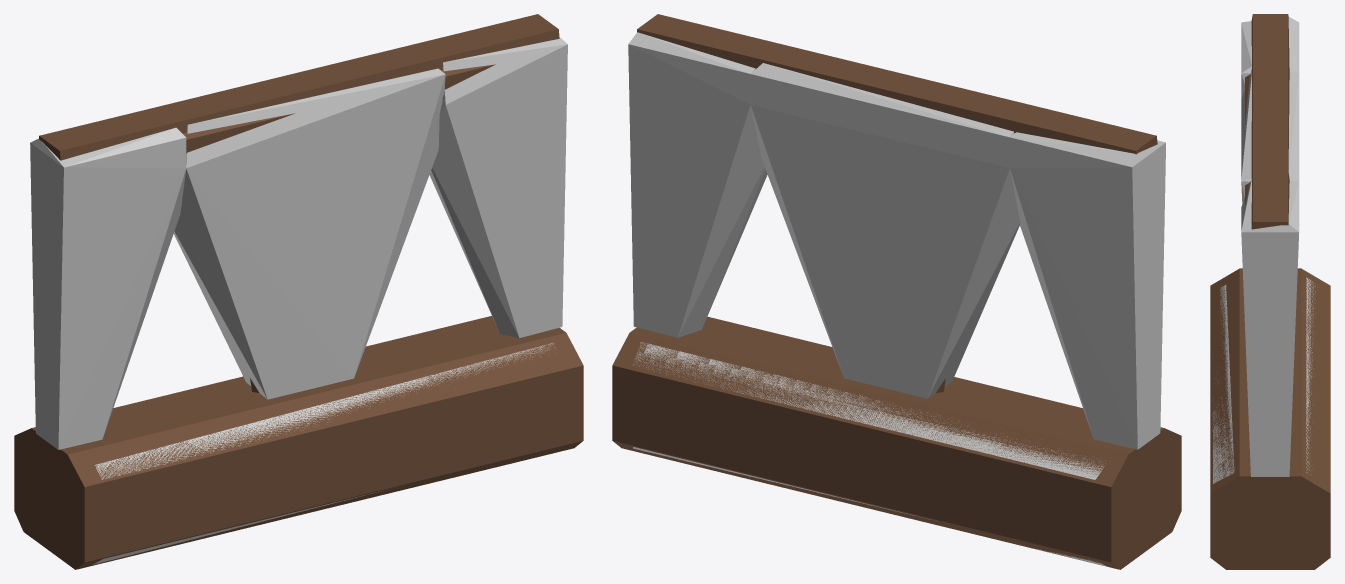
Rendered from SM_Bld_Stairs_Railing_Half_01.fbx.
3 views of the same model, side by side, from view 1: azimuth 30°, elevation 25°; view 2: azimuth 150°, elevation 25°; view 3: azimuth 270°, elevation 25° (orthographic). The views are drawn at different scales.
Visible parts, largest first — view 1: SM_Bld_Stairs_Railing_Half_01_ConvexHulls, SM_Bld_Stairs_Railing_Half_01; view 2: SM_Bld_Stairs_Railing_Half_01_ConvexHulls, SM_Bld_Stairs_Railing_Half_01; view 3: SM_Bld_Stairs_Railing_Half_01, SM_Bld_Stairs_Railing_Half_01_ConvexHulls.
Boxes of the visible parts, bbox=[...] form: SM_Bld_Stairs_Railing_Half_01_ConvexHulls: bbox=[30, 37, 567, 564]; SM_Bld_Stairs_Railing_Half_01: bbox=[14, 14, 583, 569]; SM_Bld_Stairs_Railing_Half_01_ConvexHulls: bbox=[628, 32, 1165, 566]; SM_Bld_Stairs_Railing_Half_01: bbox=[612, 14, 1181, 569]; SM_Bld_Stairs_Railing_Half_01: bbox=[1210, 14, 1330, 569]; SM_Bld_Stairs_Railing_Half_01_ConvexHulls: bbox=[1212, 17, 1315, 483].
Bounding box in the file's own units: 126 × 30.52 × 97.61.
2 materials, 1 textured.
